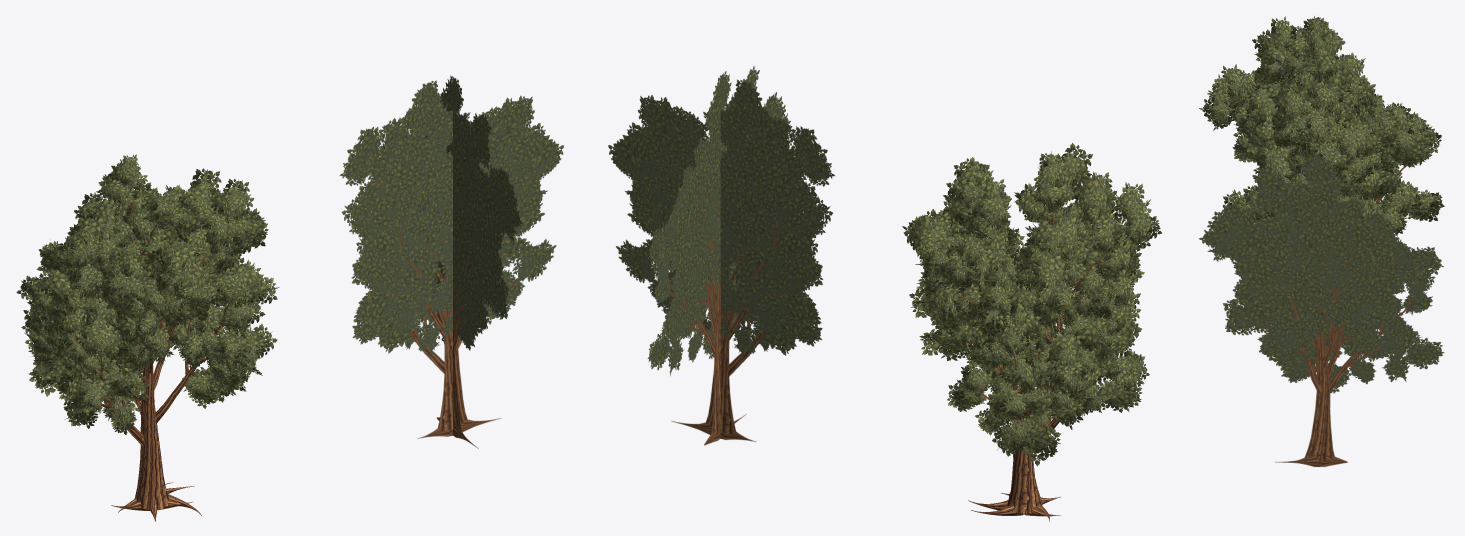
File: tree7.glb
3 renders of one model, left to right at view 1: azimuth 30°, elevation 25°; view 2: azimuth 150°, elevation 25°; view 3: azimuth 270°, elevation 25°, orthographic. The views are drawn at different scales.
Visible parts, largest first — view 1: Tree7_High, Empty.023; view 2: Tree7_High, Empty.023; view 3: Empty.023, Tree7_High.
Part boxes in pixels (x1,y1,x2,y2): Tree7_High: [16, 154, 279, 521]; Empty.023: [339, 75, 563, 448]; Tree7_High: [902, 143, 1161, 521]; Empty.023: [608, 66, 834, 445]; Empty.023: [1199, 155, 1444, 466]; Tree7_High: [1199, 16, 1444, 345].
Bounding box in the file's own units: 73.72 × 48.94 × 35.56.
Materials: 3 (3 with a texture image).
